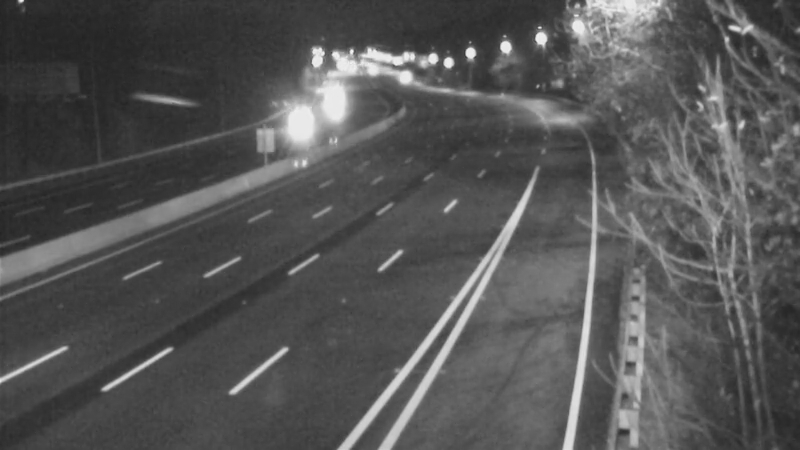vehicle: (374, 52, 424, 102), (272, 99, 322, 149), (307, 78, 357, 128)
